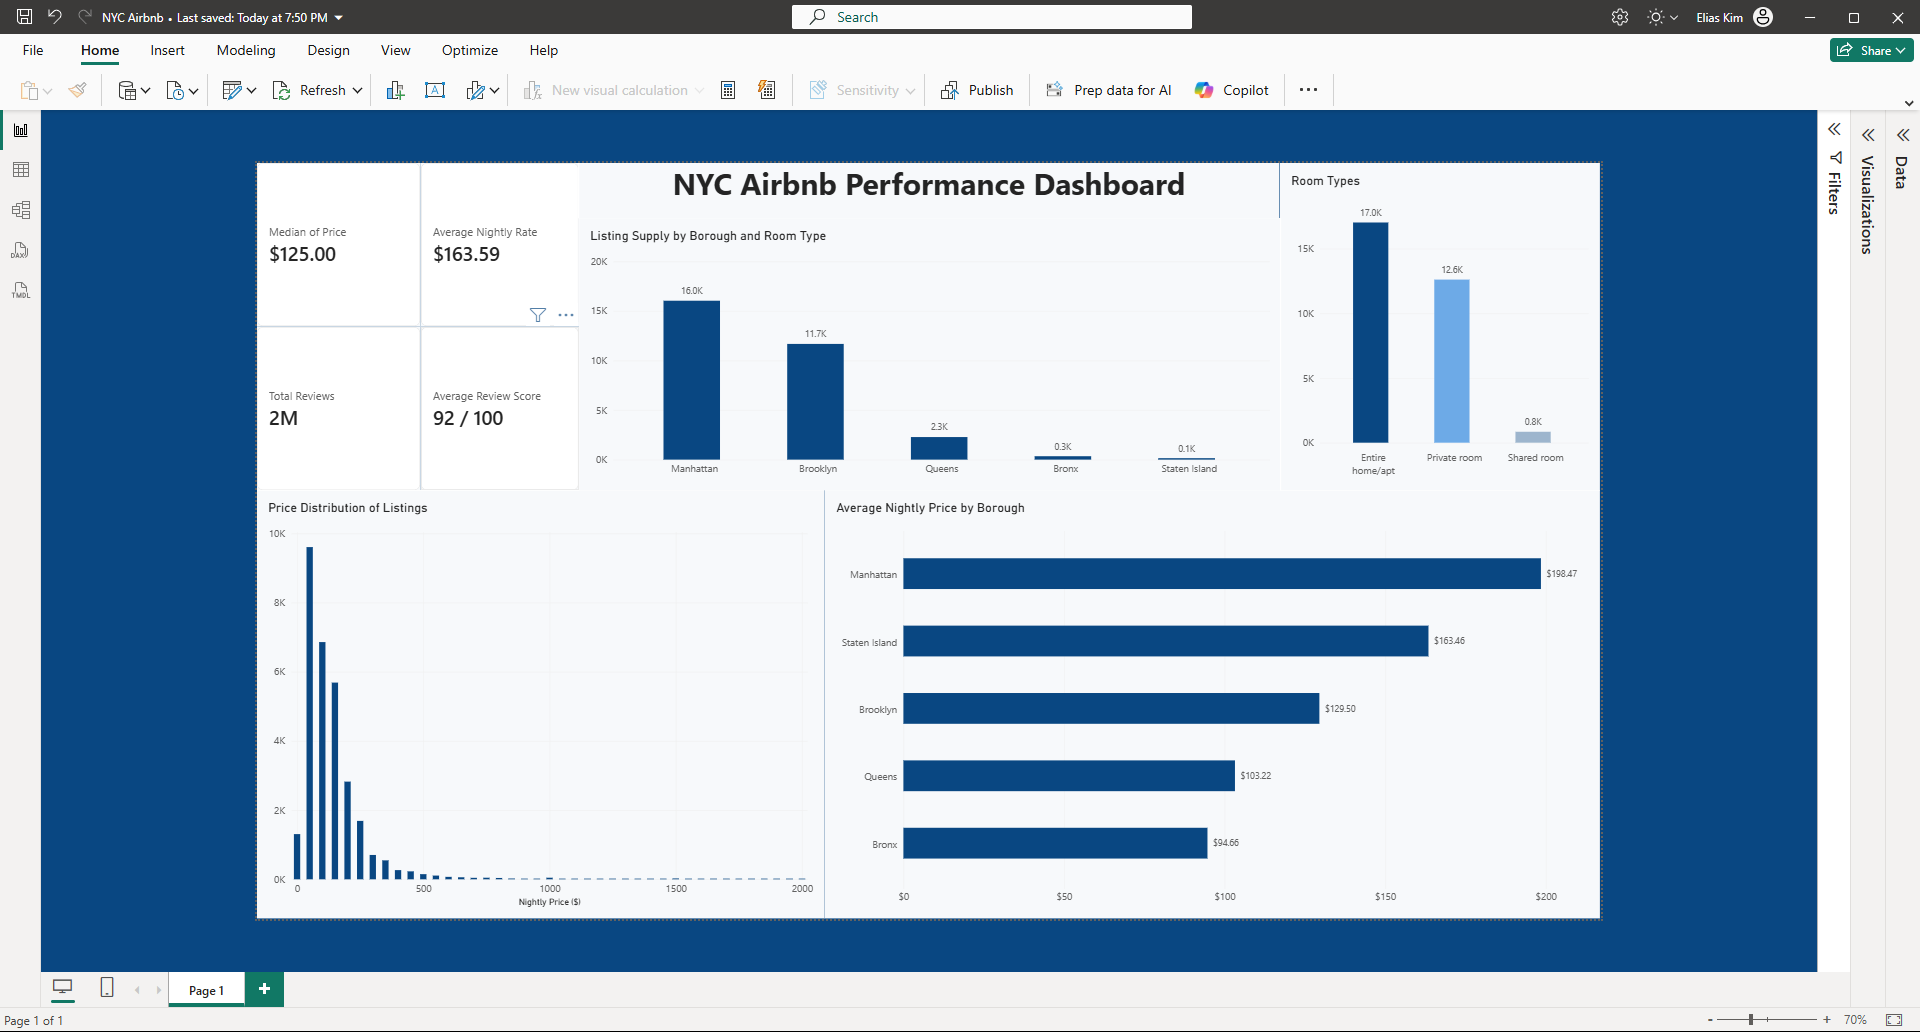

The dashboard page shown, as its layout file describes it:
{"tool":"powerbi","page":{"name":"Page 1","canvas":[1920,1080],"ordinal":0},"visuals":[{"type":"clusteredBarChart","title":"Average Nightly Price by Borough ","fields":{"Category":["AirBnB_NYC.Neighbourhood ","AirBnB_NYC.Room Type"],"Y":["Avg(AirBnB_NYC.Price)"]},"box":[810.8,467.6,1106.8,612.2],"z":0},{"type":"cardVisual","title":"Number of listings","fields":{"Data":["Median(AirBnB_NYC.Price)"]},"box":[0,0,233.7,233.7],"z":1000},{"type":"cardVisual","fields":{"Data":["Avg(AirBnB_NYC.Price)"]},"box":[233.7,0,225.7,233.7],"z":2000},{"type":"cardVisual","fields":{"Data":["AirBnB_NYC.Formatted Review Score"]},"box":[233.7,233.7,225.7,233.7],"z":3000},{"type":"columnChart","title":"Room Types","fields":{"Category":["AirBnB_NYC.Room Type"],"Y":["CountNonNull(AirBnB_NYC.Room Type)"]},"box":[1460.8,0,456.8,467.6],"z":5000},{"type":"columnChart","title":"Listing Supply by Borough and Room Type","fields":{"Category":["AirBnB_NYC.Neighbourhood ","AirBnB_NYC.Room Type"],"Y":["CountNonNull(AirBnB_NYC.Neighbourhood )"]},"box":[459.5,78.4,1002.7,389.2],"z":6000},{"type":"clusteredColumnChart","title":"Price Distribution of Listings","fields":{"Category":["AirBnB_NYC.Price (bins)"],"Y":["CountNonNull(AirBnB_NYC.Price)"]},"box":[0,467.6,810.8,612.2],"z":7001},{"type":"textbox","box":[458.8,0,1002.3,78.8],"z":7002},{"type":"cardVisual","fields":{"Data":["Sum(AirBnB_NYC.Review Scores Rating)"]},"box":[0,233.7,233.7,233.7],"z":7003}]}

Visuals, with their boxes on the page's 1920x1080 design canvas (x1, y1, x2, y2). These are canvas units, not pixel positions in the 1920x1032 screenshot, which may show the page scaled, cropped or inside an application window:
"Average Nightly Price by Borough " clusteredBarChart: <bbox>811, 468, 1918, 1080</bbox>
"Number of listings" cardVisual: <bbox>0, 0, 234, 234</bbox>
cardVisual - Avg(AirBnB_NYC.Price): <bbox>234, 0, 459, 234</bbox>
cardVisual - AirBnB_NYC.Formatted Review Score: <bbox>234, 234, 459, 467</bbox>
"Room Types" columnChart: <bbox>1461, 0, 1918, 468</bbox>
"Listing Supply by Borough and Room Type" columnChart: <bbox>460, 78, 1462, 468</bbox>
"Price Distribution of Listings" clusteredColumnChart: <bbox>0, 468, 811, 1080</bbox>
textbox: <bbox>459, 0, 1461, 79</bbox>
cardVisual - Sum(AirBnB_NYC.Review Scores Rating): <bbox>0, 234, 234, 467</bbox>
